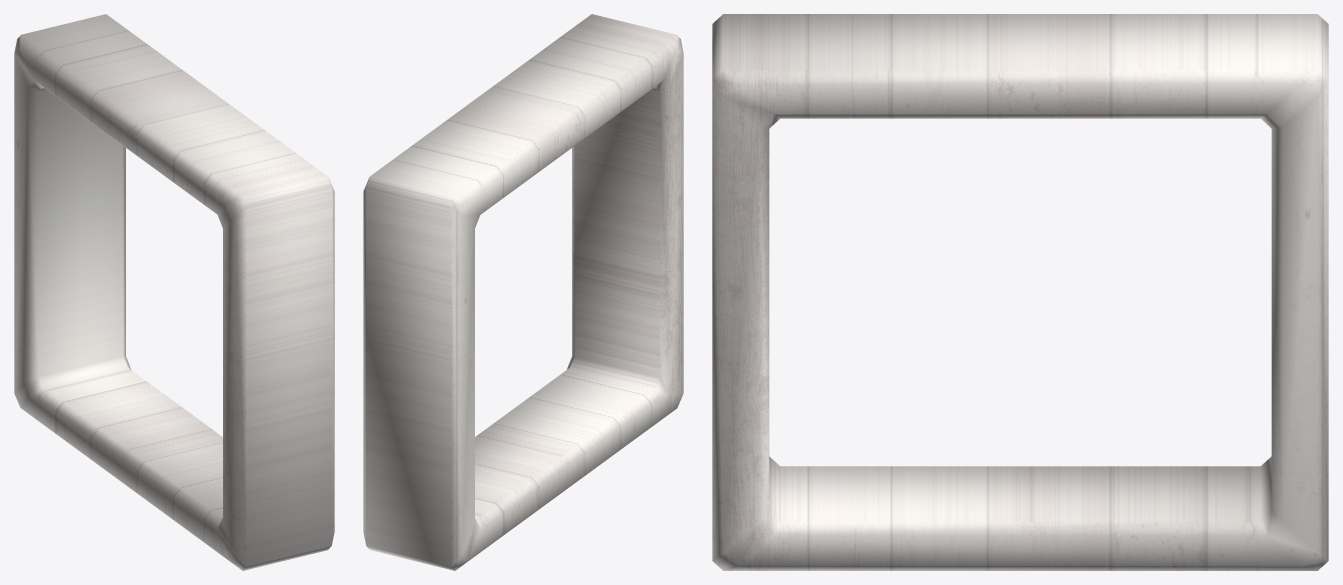
The model's file is marco_ventana.fbx.
The picture shows the model from 3 angles, left to right: view 1: azimuth 30°, elevation 25°; view 2: azimuth 150°, elevation 25°; view 3: azimuth 270°, elevation 25°; orthographic projection. The views are drawn at different scales.
Parts seen in each view (by area): view 1: VentanaMarco; view 2: VentanaMarco; view 3: VentanaMarco.
Boxes of the visible parts, x1,y1,x2,y2 form: VentanaMarco: (14,14,334,570); VentanaMarco: (363,14,683,570); VentanaMarco: (712,14,1328,570).
Size of the model in its own units: 32.33 by 117 by 130.
